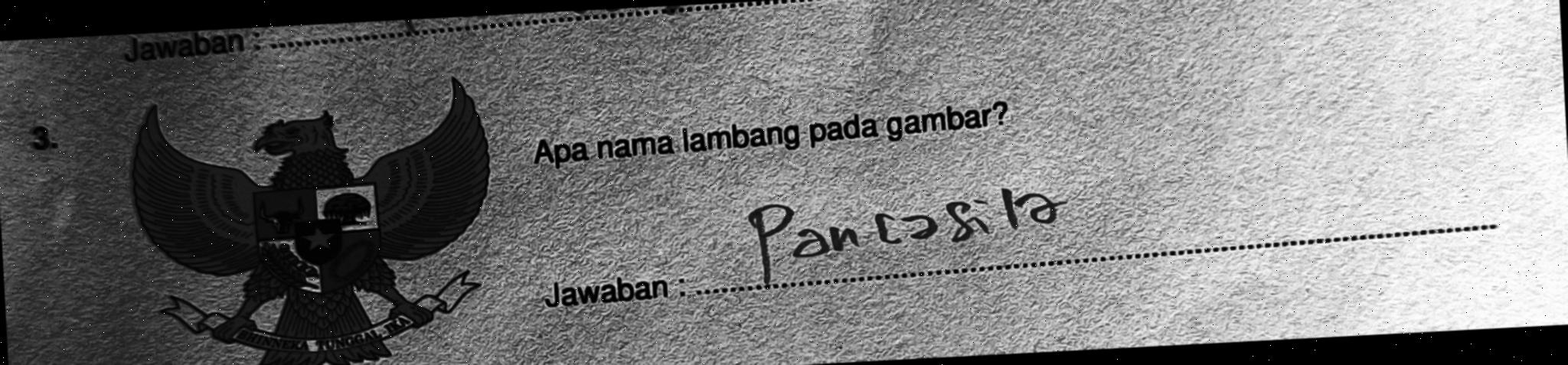jawaban: (738, 159, 1078, 291)
